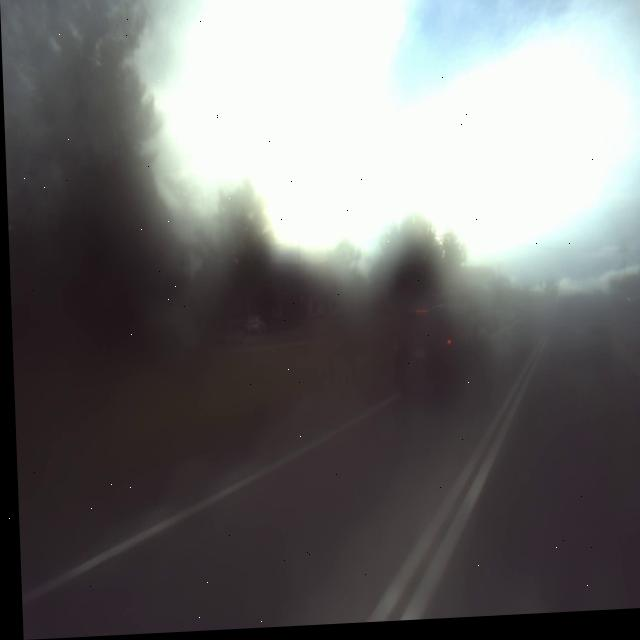car: (393, 299, 490, 409)
